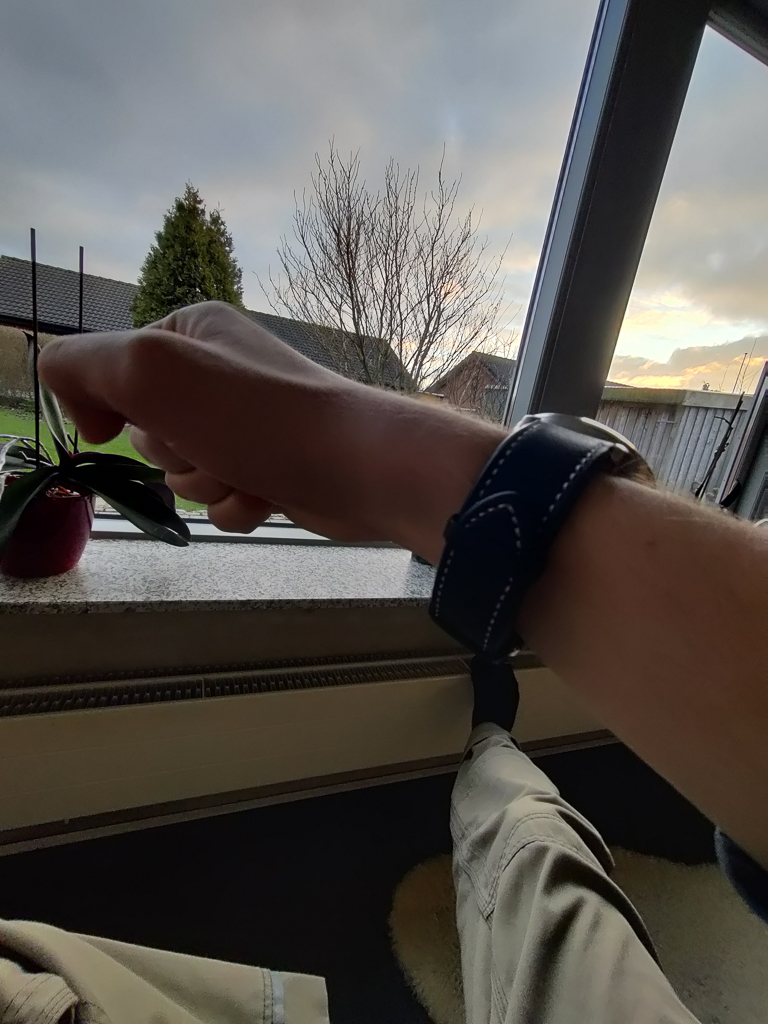Humanoid: (0, 277, 768, 1024)
